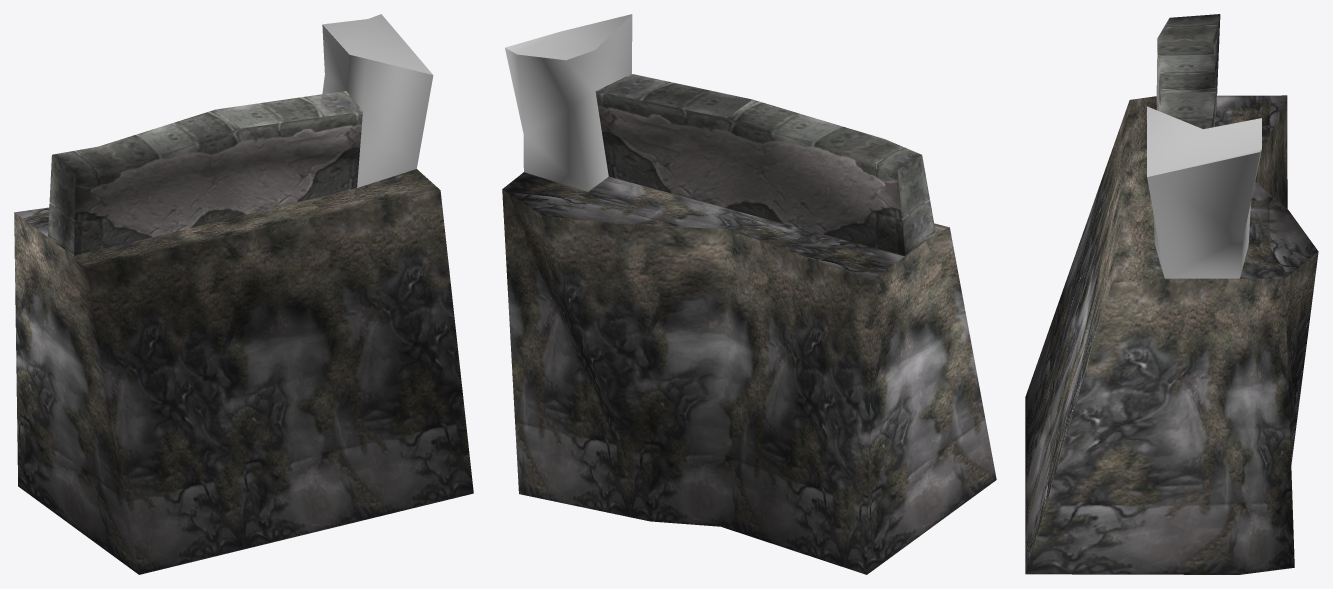
The model's file is duskwoodruins02.obj.
The picture shows the model from 3 angles, left to right: view 1: azimuth 30°, elevation 25°; view 2: azimuth 150°, elevation 25°; view 3: azimuth 270°, elevation 25°; orthographic projection. The views are drawn at different scales.
Visible parts, largest first — view 1: DUSKWOODRUINS021, DUSKWOODRUINS020, DUSKWOODRUINS022; view 2: DUSKWOODRUINS021, DUSKWOODRUINS020, DUSKWOODRUINS022; view 3: DUSKWOODRUINS021, DUSKWOODRUINS022, DUSKWOODRUINS020.
Boxes of the visible parts, box(x1,y1,x2,y2) form: DUSKWOODRUINS021: box(14, 169, 473, 574); DUSKWOODRUINS020: box(48, 91, 362, 256); DUSKWOODRUINS022: box(322, 14, 433, 187); DUSKWOODRUINS021: box(502, 172, 996, 574); DUSKWOODRUINS020: box(595, 74, 935, 256); DUSKWOODRUINS022: box(505, 14, 632, 191); DUSKWOODRUINS021: box(1025, 95, 1318, 574); DUSKWOODRUINS022: box(1147, 106, 1261, 278); DUSKWOODRUINS020: box(1156, 14, 1220, 129).
Size of the model in its own units: 5.54 by 6.09 by 3.65.
